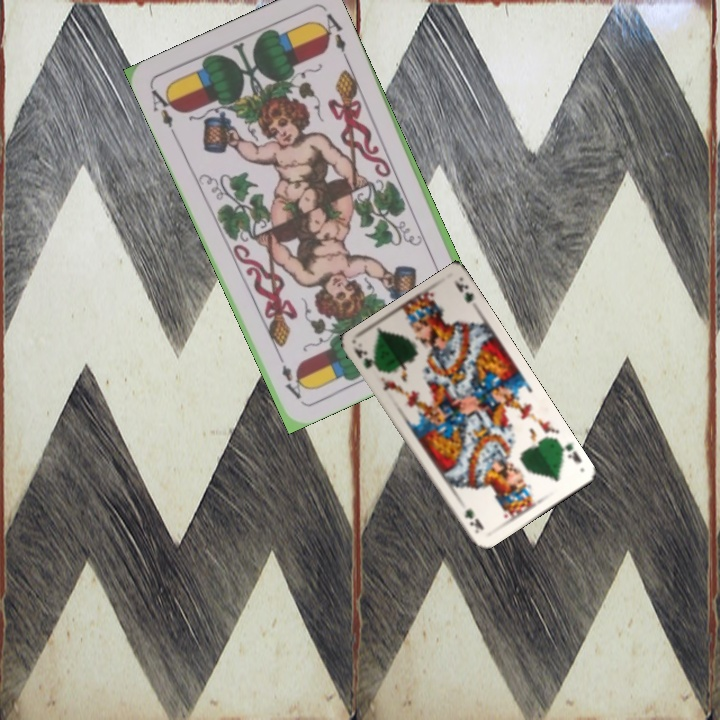EA: (146, 83, 180, 139)
GK: (350, 344, 383, 375), (553, 436, 584, 466)
